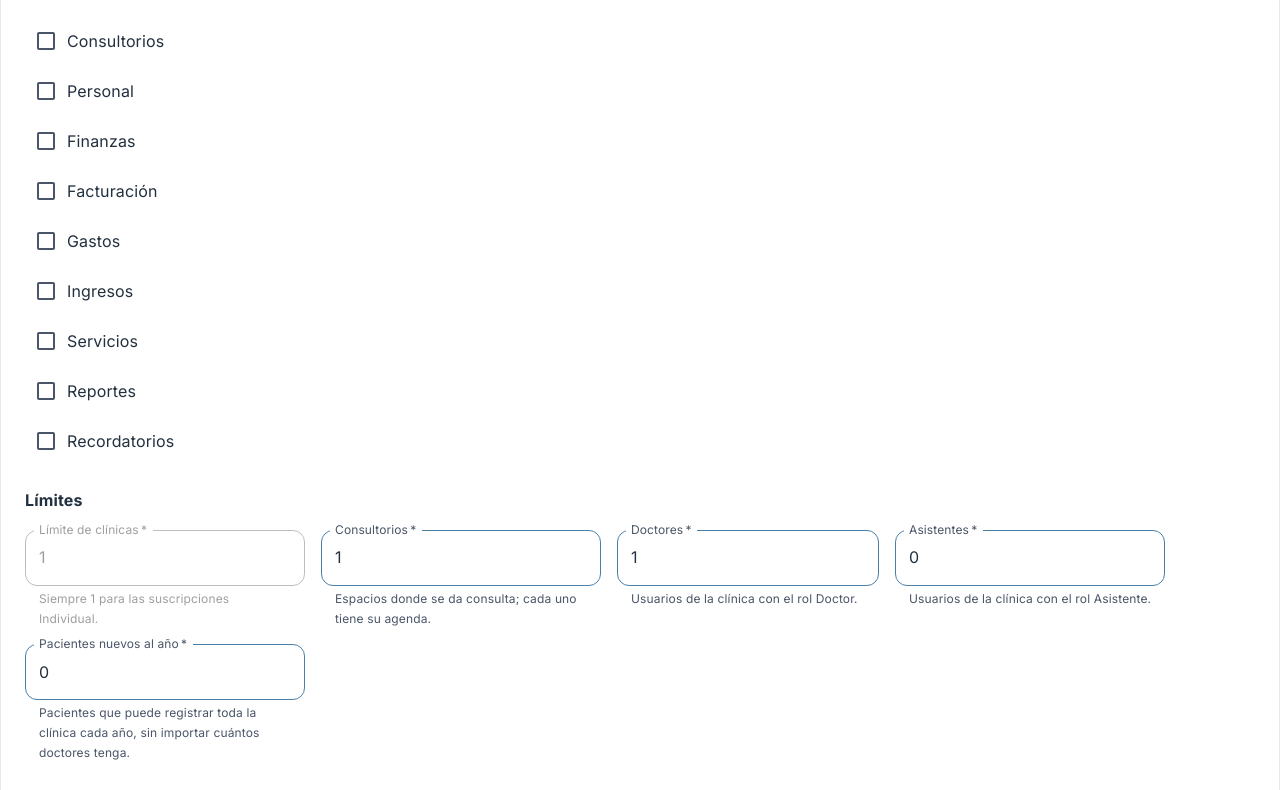
SubscriptionEditPage › sending only what changed (FR-012) › sends the module set with the one marked added, with no dependency cascade (021)
The width and height of the screenshot is (1280, 790).
(page scrolled)
Click the checkbox labelled "Reportes" at (85, 391), box [34, 379, 136, 403]
(page scrolled)
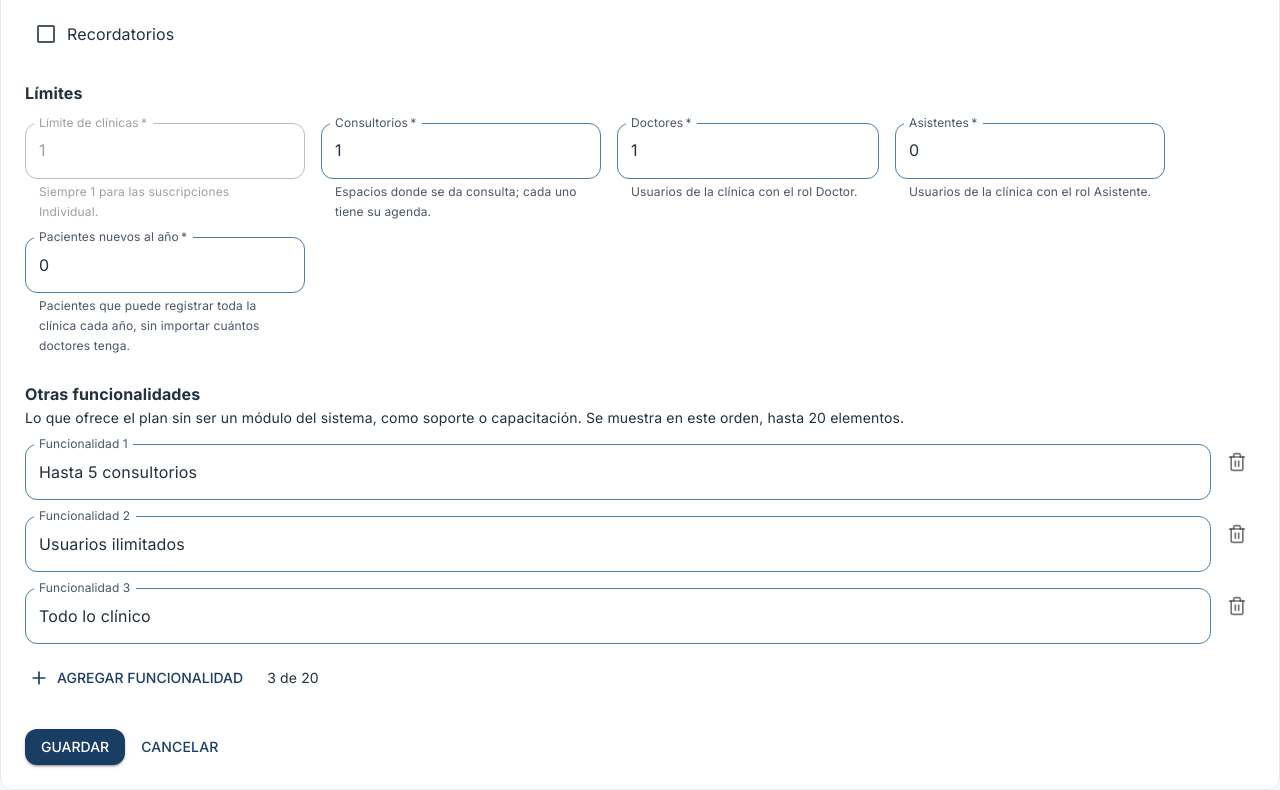
Click the button "Guardar" at (75, 747), box [25, 729, 125, 765]
(page scrolled)
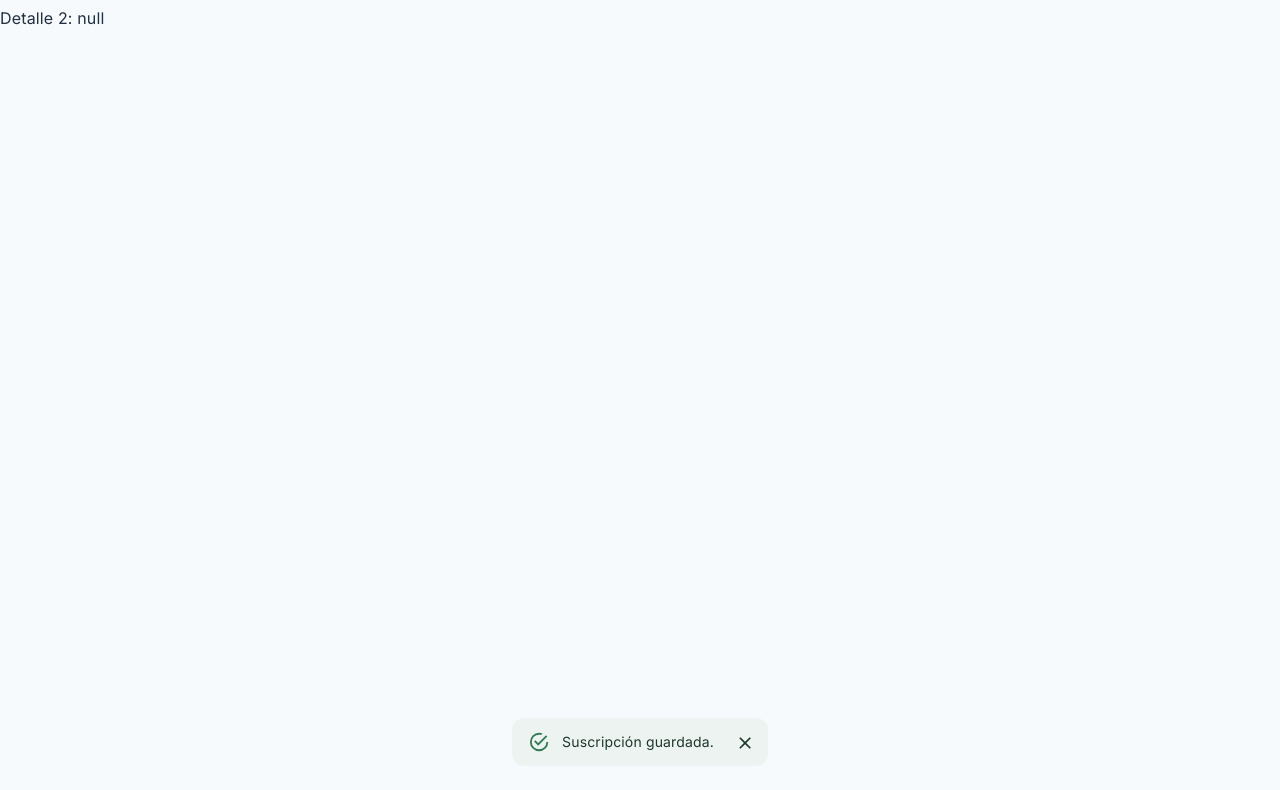
Check: the text "Detalle 2: null" is shown, box [0, 8, 104, 28]
